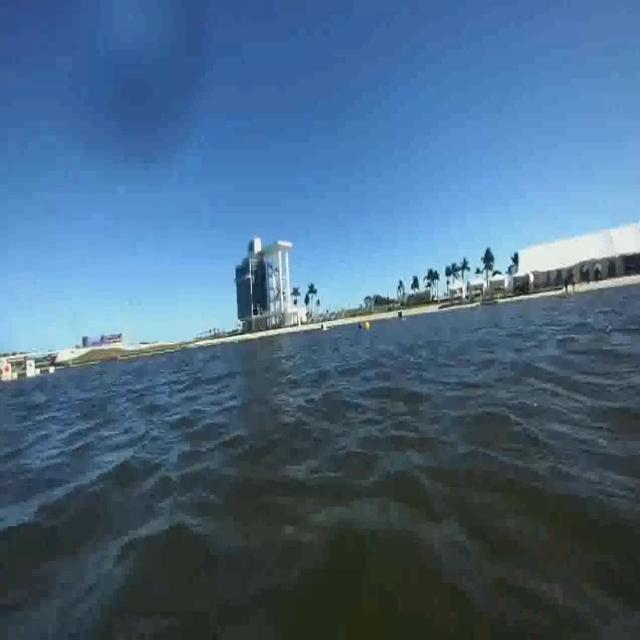yellow-buoy: (364, 319, 372, 333)
